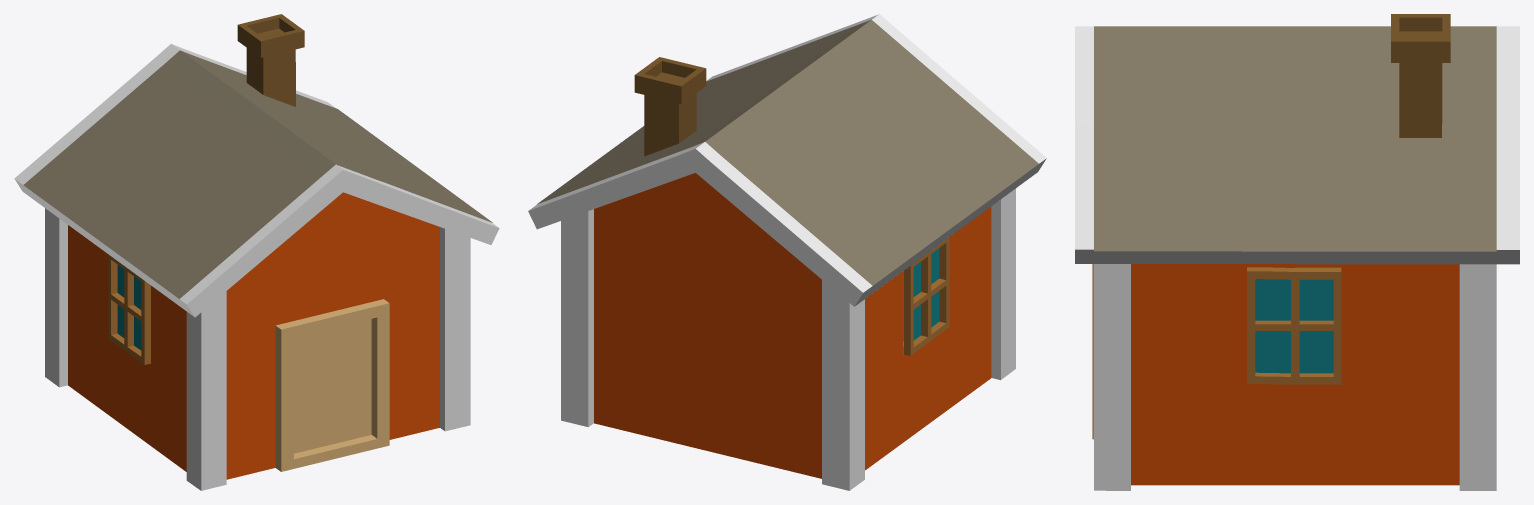
Rendered from Farm House 2.fbx.
3 renders of one model, left to right at view 1: azimuth 30°, elevation 25°; view 2: azimuth 150°, elevation 25°; view 3: azimuth 270°, elevation 25°, orthographic. The views are drawn at different scales.
Parts seen in each view (by area): view 1: Plane.009, Plane.010, Plane, Plane.012, Plane.011, Plane.014, Plane.013; view 2: Plane.009, Plane.010, Plane, Plane.011, Plane.014, Plane.013; view 3: Plane.010, Plane.009, Plane, Plane.011, Plane.013, Plane.014.
Part boxes in pixels (left/top/right/bottom): Plane.009: left=68, top=165, right=439, bottom=479; Plane.010: left=23, top=50, right=492, bottom=298; Plane: left=14, top=44, right=499, bottom=490; Plane.012: left=275, top=299, right=389, bottom=471; Plane.011: left=237, top=14, right=304, bottom=106; Plane.014: left=108, top=254, right=150, bottom=364; Plane.013: left=117, top=265, right=141, bottom=350; Plane.009: left=594, top=173, right=991, bottom=478; Plane.010: left=537, top=19, right=1038, bottom=285; Plane: left=528, top=14, right=1046, bottom=490; Plane.011: left=634, top=57, right=706, bottom=156; Plane.014: left=904, top=237, right=949, bottom=355; Plane.013: left=913, top=248, right=939, bottom=340; Plane.010: left=1094, top=26, right=1496, bottom=251; Plane.009: left=1131, top=264, right=1459, bottom=485; Plane: left=1075, top=26, right=1519, bottom=490; Plane.011: left=1391, top=14, right=1450, bottom=137; Plane.013: left=1255, top=279, right=1333, bottom=373; Plane.014: left=1247, top=267, right=1341, bottom=384.
Size of the model in its own units: 2492 by 2444 by 2362.
